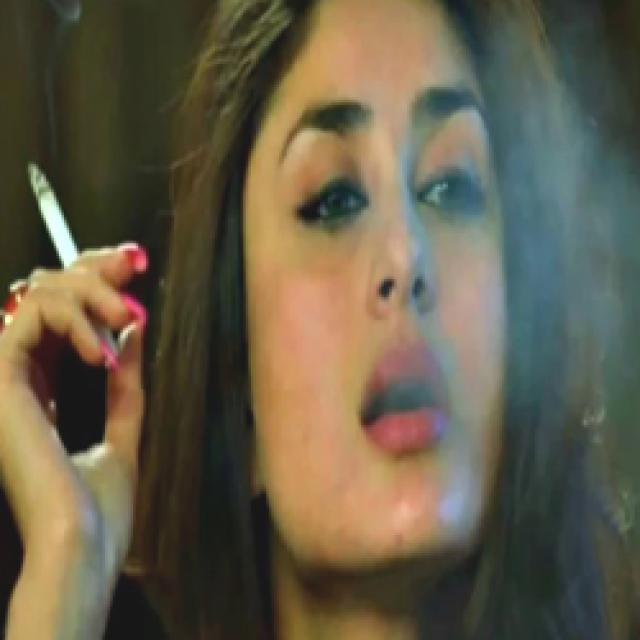Smooking: (24, 158, 96, 262)
